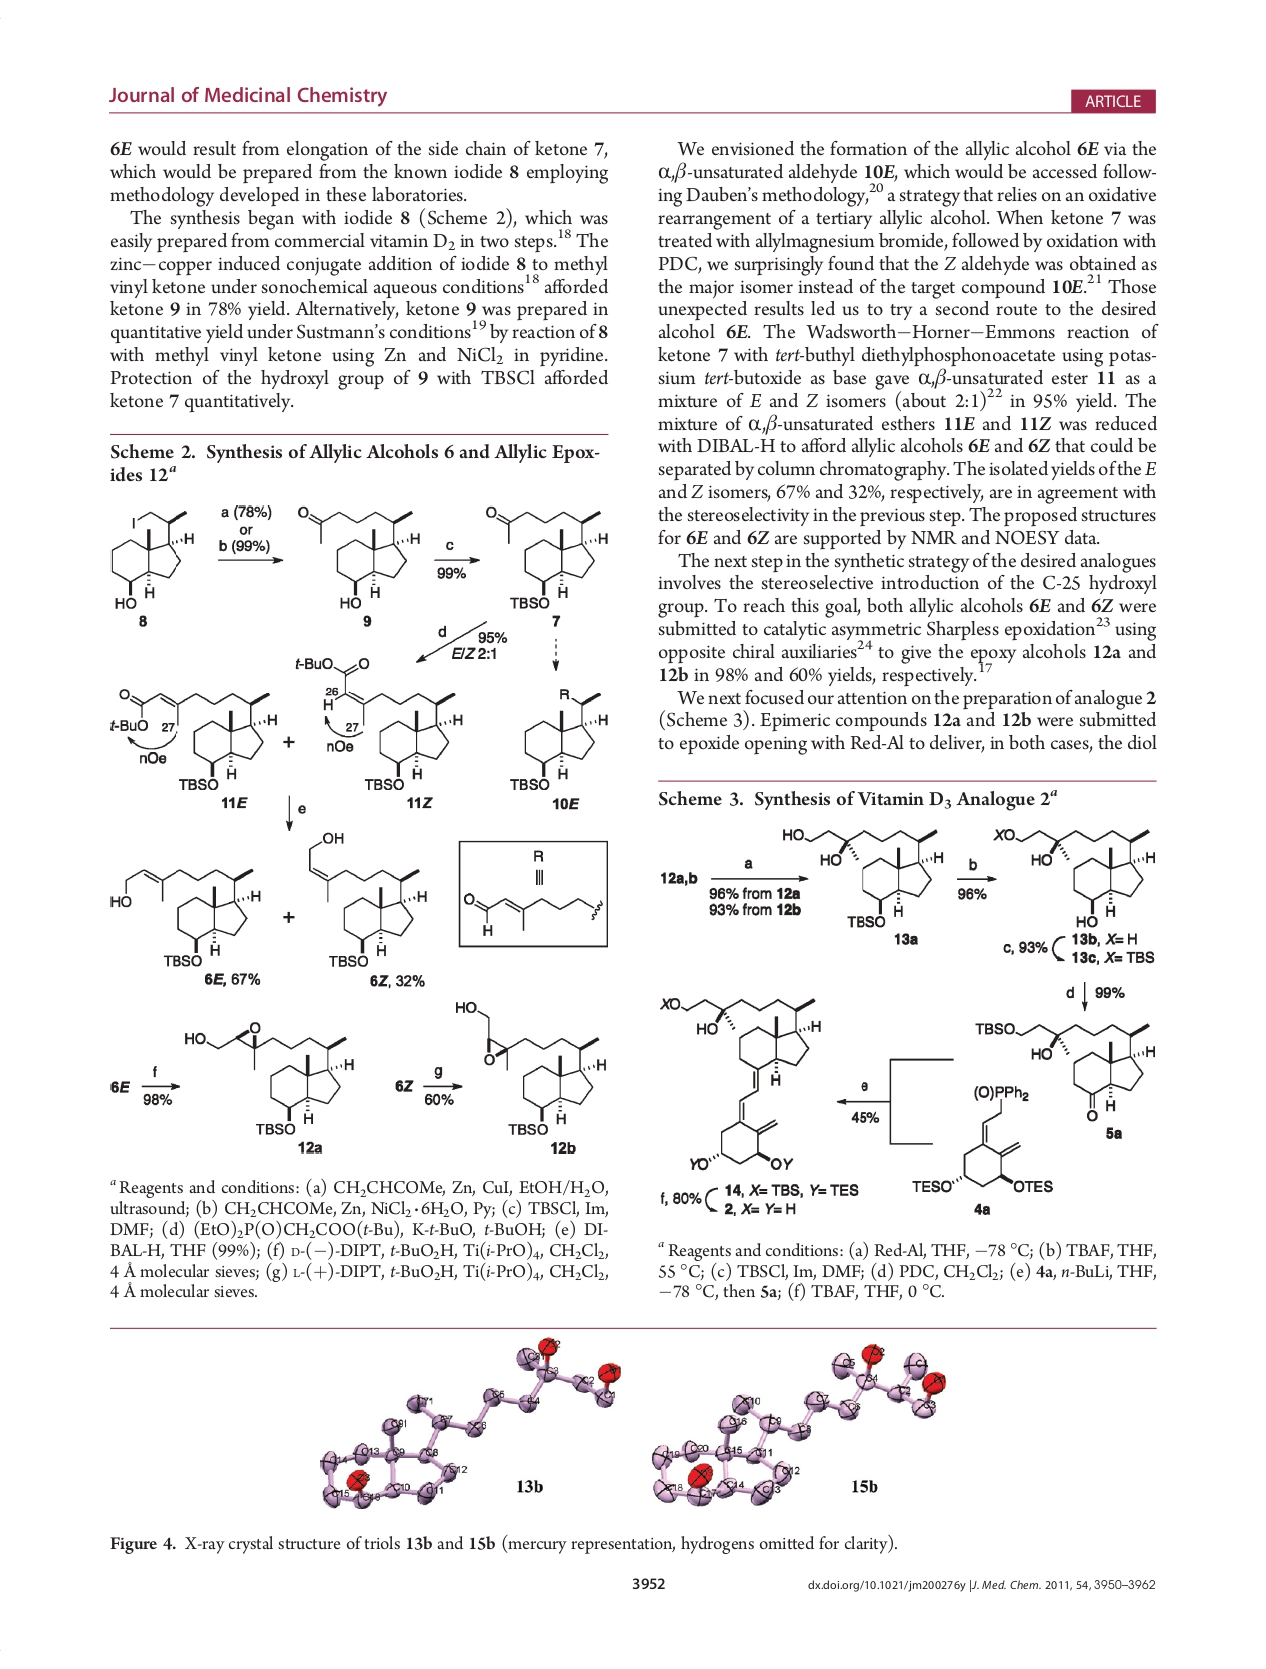exist_molecular: (656, 989, 824, 1174), (293, 656, 465, 794), (452, 997, 609, 1140), (181, 1017, 359, 1137), (975, 1017, 1157, 1124), (105, 685, 281, 793), (991, 818, 1158, 930), (302, 827, 431, 969), (104, 858, 267, 969), (779, 823, 946, 932), (910, 1081, 1055, 1200), (294, 501, 424, 612), (483, 500, 610, 612), (509, 686, 612, 794), (105, 505, 197, 613), (460, 888, 604, 938)
